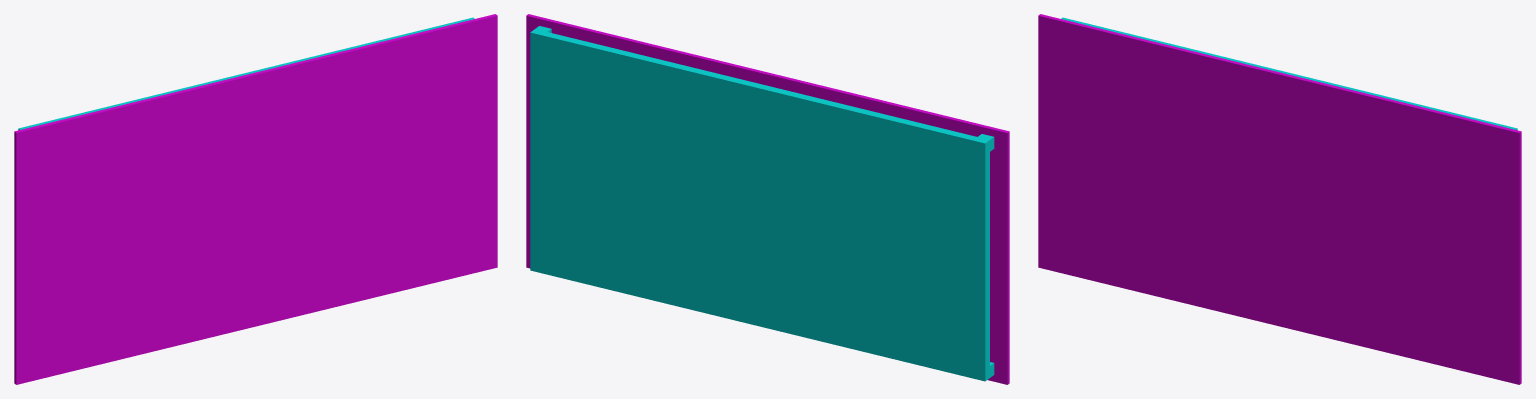
Rendered from SM_WA_LargeBillboard_v03.fbx.
3 views of the same model, side by side, from view 1: azimuth 30°, elevation 25°; view 2: azimuth 150°, elevation 25°; view 3: azimuth 330°, elevation 25° (orthographic).
Visible parts, largest first — view 1: LargeBillboard; view 2: LargeBillboard; view 3: LargeBillboard.
Part boxes in pixels (left/top/right/bottom): LargeBillboard: left=14, top=14, right=497, bottom=384; LargeBillboard: left=526, top=14, right=1009, bottom=384; LargeBillboard: left=1038, top=14, right=1521, bottom=384.
Size of the model in its own units: 1200 by 600 by 49.35.
